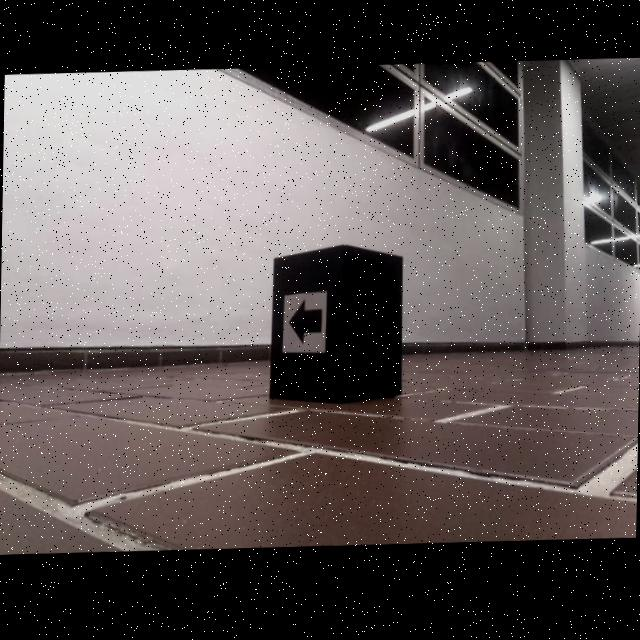LEFT: (288, 300, 322, 348)
